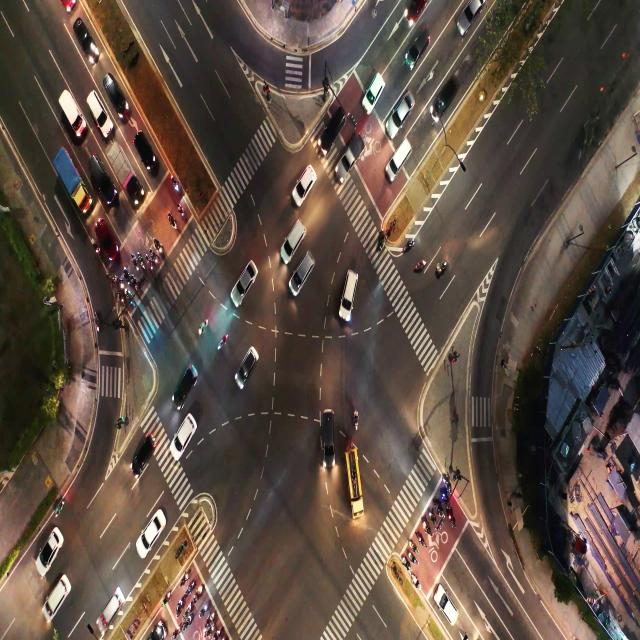bus: (352, 467, 362, 491)
car: (238, 352, 255, 378), (323, 415, 337, 445), (42, 540, 56, 562), (396, 142, 411, 162), (444, 73, 455, 99), (346, 274, 356, 301), (415, 32, 428, 52), (296, 258, 309, 278), (139, 442, 149, 466), (398, 100, 411, 118), (441, 592, 451, 614), (79, 28, 91, 46), (242, 264, 255, 280), (184, 370, 194, 390), (54, 584, 64, 604), (110, 591, 118, 615), (289, 226, 303, 239), (329, 119, 338, 139), (151, 520, 161, 538), (139, 137, 150, 153), (372, 78, 381, 96), (303, 172, 314, 186), (184, 416, 193, 432), (105, 228, 114, 243), (467, 3, 476, 16), (96, 165, 102, 184), (94, 100, 102, 114), (409, 2, 419, 13), (112, 85, 120, 97)
motorcycle: (401, 236, 416, 255), (54, 500, 67, 518), (414, 258, 428, 272), (436, 260, 449, 272), (218, 334, 228, 348), (199, 320, 209, 333), (93, 314, 101, 330), (353, 410, 359, 431), (419, 534, 425, 546), (172, 181, 179, 191), (171, 216, 176, 230), (425, 524, 430, 535), (96, 241, 100, 253), (379, 235, 383, 246), (182, 575, 188, 582), (431, 516, 436, 524), (128, 289, 132, 299), (190, 581, 195, 589), (209, 624, 214, 632), (180, 204, 184, 213), (186, 604, 192, 610), (167, 591, 172, 598), (210, 613, 215, 620), (218, 627, 223, 634), (437, 506, 441, 514), (415, 578, 419, 586), (112, 274, 116, 282), (126, 268, 129, 278), (198, 588, 203, 594), (158, 244, 162, 251), (153, 255, 157, 262), (133, 278, 137, 285), (120, 283, 124, 290), (451, 517, 454, 526), (447, 480, 450, 488), (147, 256, 150, 264), (179, 600, 183, 606), (175, 627, 178, 635), (412, 555, 415, 562), (120, 295, 123, 302), (205, 603, 208, 610), (141, 261, 145, 266), (412, 543, 415, 549), (188, 617, 191, 623), (406, 560, 408, 568), (443, 495, 446, 500), (135, 262, 137, 268)
truck: (63, 174, 77, 195), (115, 151, 126, 175), (345, 149, 356, 164), (69, 106, 78, 122)
